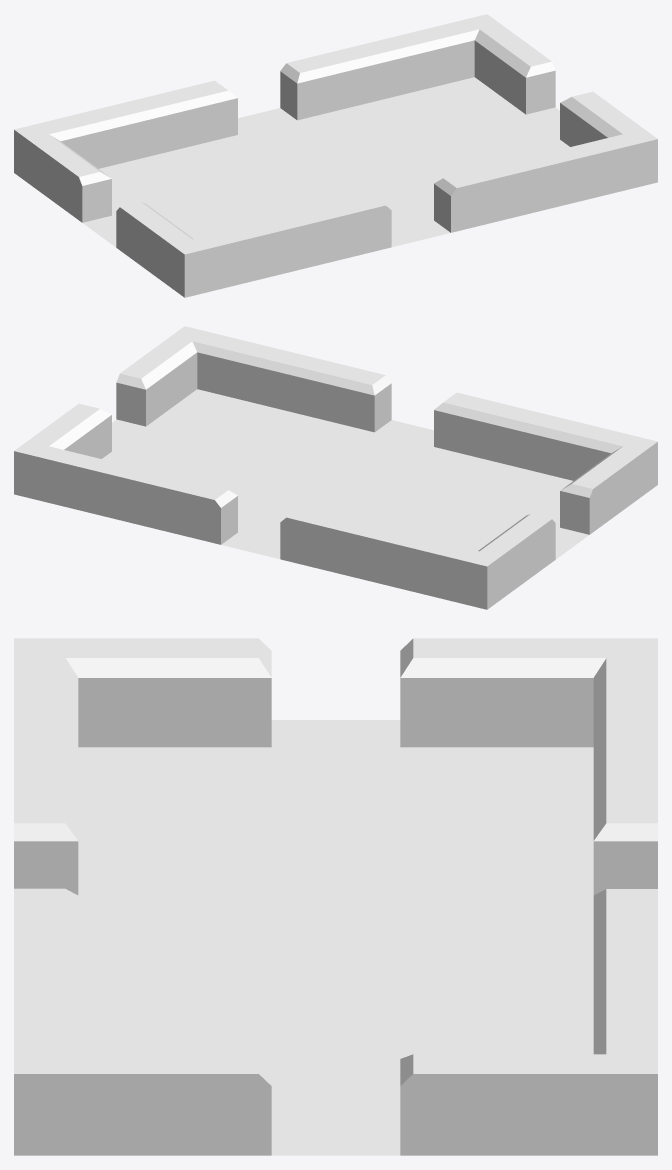
Rendered from Room10.obj.
3 renders of one model, top to bottom at view 1: azimuth 30°, elevation 25°; view 2: azimuth 150°, elevation 25°; view 3: azimuth 270°, elevation 25°, orthographic. The views are drawn at different scales.
Visible parts, largest first — view 1: room1x4; view 2: room1x4; view 3: room1x4.
Part boxes in pixels (x1,y1,x2,y2): room1x4: [14, 14, 657, 297]; room1x4: [14, 326, 657, 609]; room1x4: [14, 638, 657, 1155].
Size of what is drawn, in the model's own units: 80 by 7 by 50.
